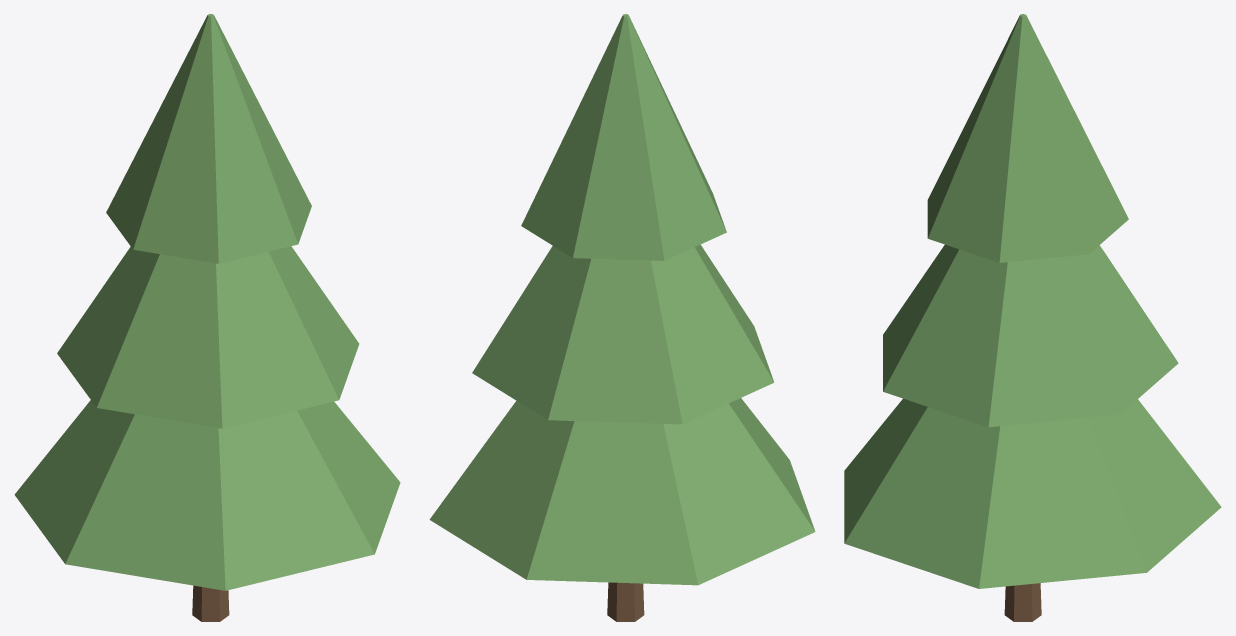
File: tree-pine.glb
3 views of the same model, side by side, from view 1: azimuth 30°, elevation 25°; view 2: azimuth 150°, elevation 25°; view 3: azimuth 270°, elevation 25° (orthographic).
Parts seen in each view (by area): view 1: leaf, trunk; view 2: leaf, trunk; view 3: leaf, trunk.
Boxes of the visible parts, box(x1,y1,x2,y2) form: leaf: box(14, 14, 400, 590); trunk: box(192, 585, 229, 621); leaf: box(429, 14, 815, 585); trunk: box(607, 582, 644, 621); leaf: box(844, 14, 1221, 588); trunk: box(1004, 583, 1041, 621).
Bounding box in the file's own units: 5.85 × 10 × 5.7.
